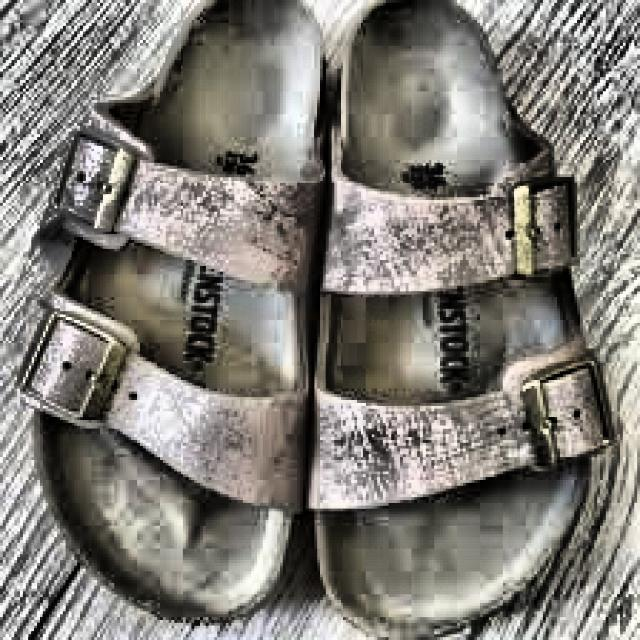shoes: (24, 1, 608, 636)
